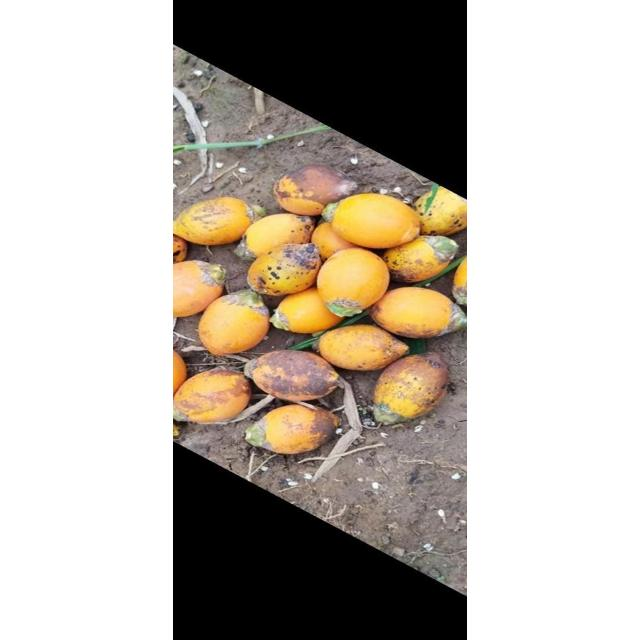good: (372, 353, 451, 422), (317, 248, 391, 316), (246, 350, 340, 402), (330, 194, 420, 248), (369, 288, 465, 338), (198, 290, 270, 354), (244, 404, 340, 452), (273, 165, 359, 215), (317, 324, 409, 370), (174, 368, 252, 422), (246, 243, 322, 297), (174, 197, 258, 245), (380, 235, 460, 283), (240, 214, 316, 258), (274, 288, 346, 334), (174, 260, 226, 318), (412, 184, 466, 236), (312, 222, 366, 260), (174, 346, 188, 406), (452, 251, 466, 305), (173, 232, 187, 264)
